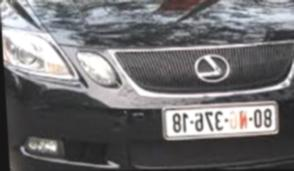License_Plate: (161, 100, 280, 142)
